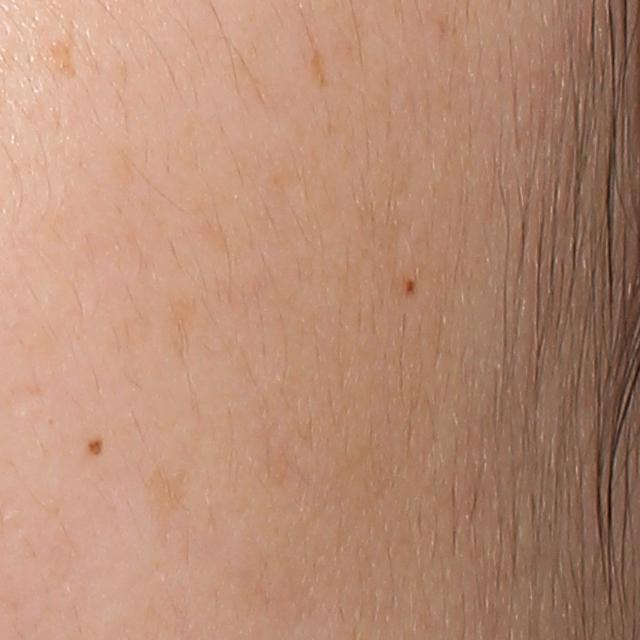nevus: (89, 438, 104, 457), (404, 276, 414, 303)
